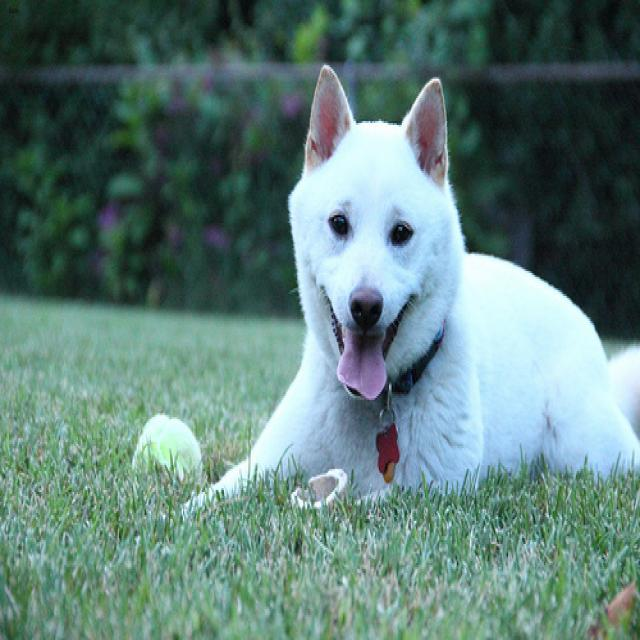dog-shiba_inu: (173, 56, 637, 527)
